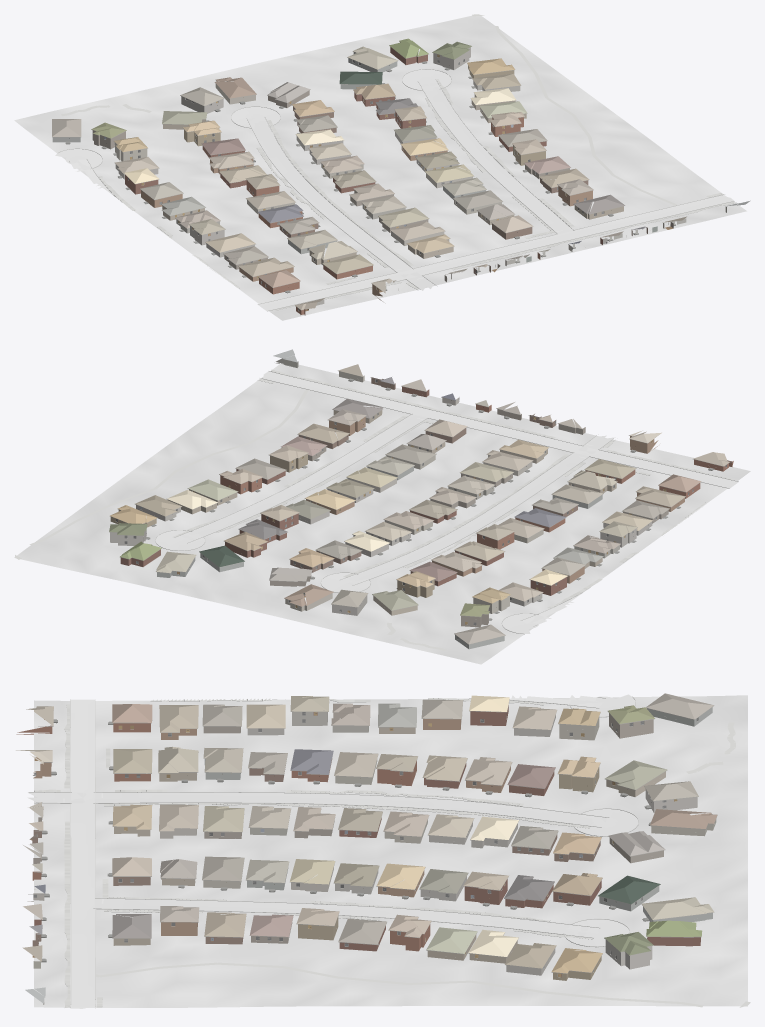
3 renders of one model, top to bottom at view 1: azimuth 30°, elevation 25°; view 2: azimuth 150°, elevation 25°; view 3: azimuth 270°, elevation 25°, orthographic. The views are drawn at different scales.
Visible parts, largest first — view 1: ground, roof, concrete, wall, walk, detail, wall_stucco, curb, wall_stone; view 2: ground, roof, concrete, wall, walk, detail, wall_stucco, curb, wall_stone; view 3: ground, roof, concrete, wall, walk, wall_stucco, detail, curb, wall_stone, glass.
Part boxes in pixels (<box>): ground: <box>14,14,746,320</box>; roof: <box>52,38,750,309</box>; concrete: <box>55,69,733,310</box>; wall: <box>92,42,647,315</box>; walk: <box>61,14,735,310</box>; detail: <box>52,41,686,310</box>; wall_stucco: <box>52,52,726,258</box>; curb: <box>57,69,736,311</box>; wall_stone: <box>115,47,520,257</box>; ground: <box>14,363,750,664</box>; roof: <box>109,349,729,644</box>; concrete: <box>155,371,738,633</box>; wall: <box>110,377,733,627</box>; walk: <box>15,369,732,650</box>; detail: <box>109,359,732,644</box>; wall_stucco: <box>157,358,619,649</box>; curb: <box>155,371,738,634</box>; wall_stone: <box>110,489,652,615</box>; ground: <box>34,695,747,1007</box>; roof: <box>16,693,717,1003</box>; concrete: <box>27,694,638,1008</box>; wall: <box>16,705,700,980</box>; walk: <box>34,698,750,1007</box>; wall_stucco: <box>27,707,716,1004</box>; detail: <box>28,699,717,997</box>; curb: <box>28,696,638,1008</box>; wall_stone: <box>247,710,697,975</box>; glass: <box>33,712,698,971</box>.
Bounding box in the file's own units: 256 × 10.87 × 258.
